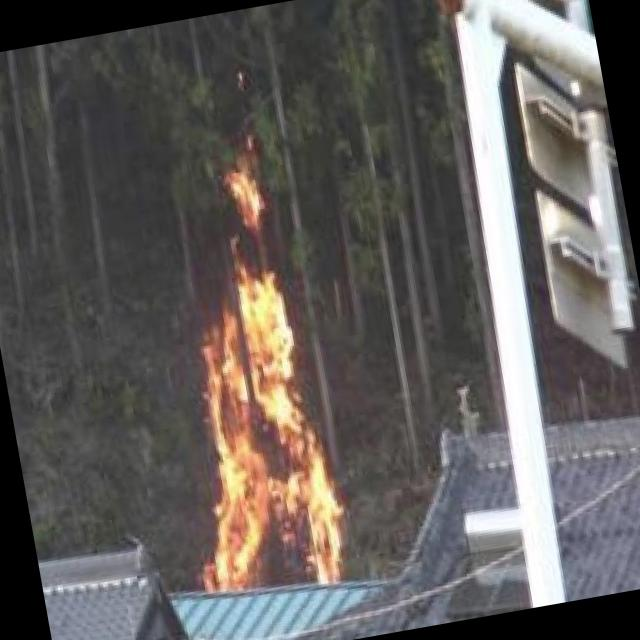Smoke: (138, 154, 354, 611)
